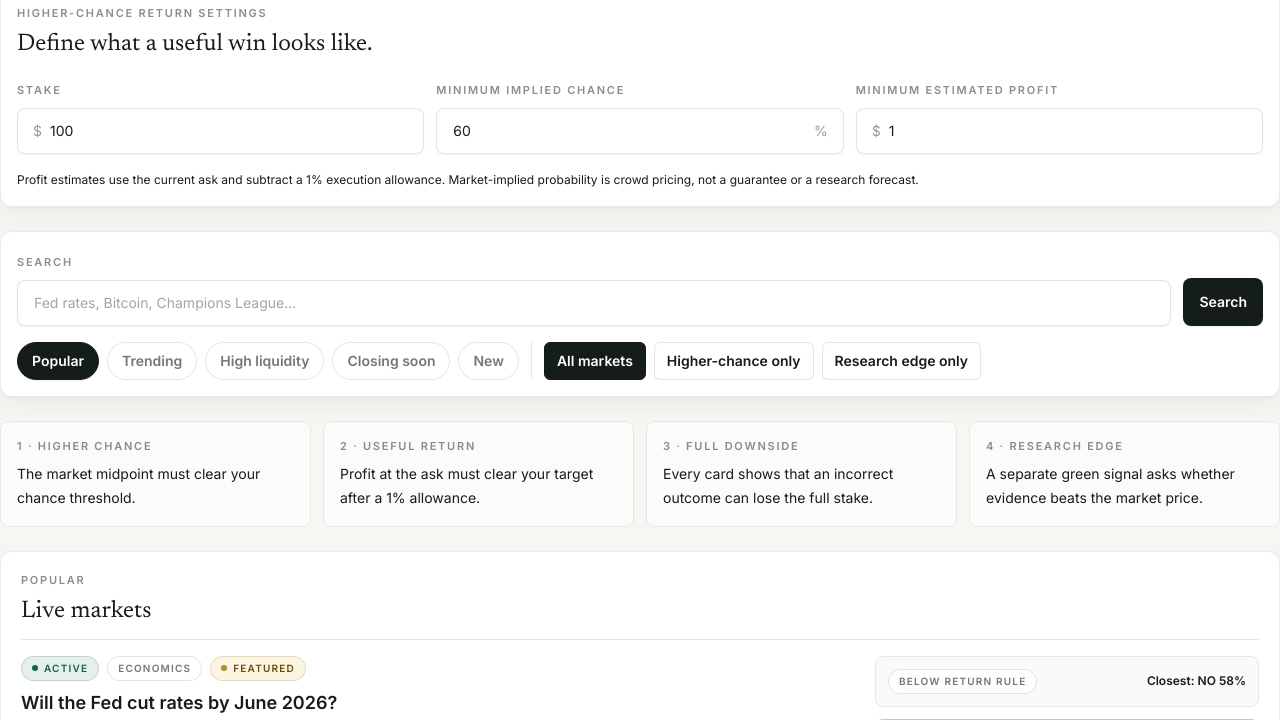
Test: MarketBrowserClient › highlights and filters favorable setups
(page scrolled)
Click the button "Research edge only". click: [901, 360]
box: [822,342,981,380]
(page scrolled)
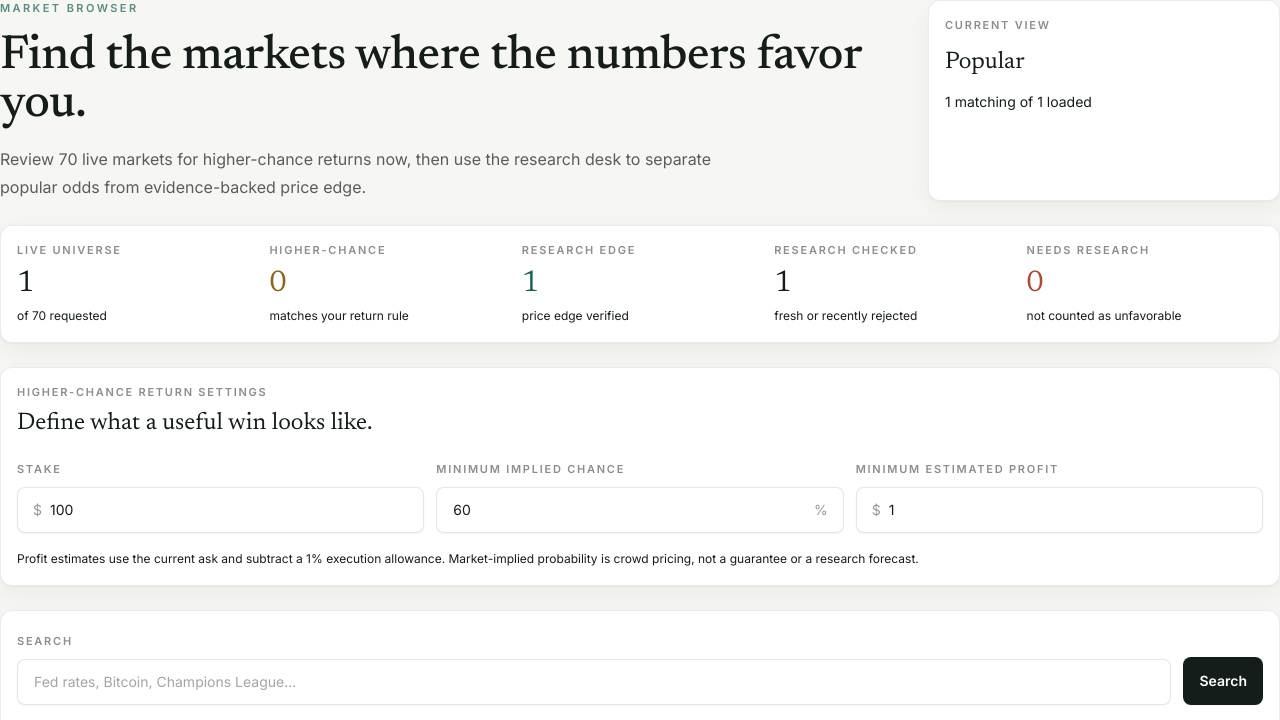
Result: the text "1 matching of 1 loaded" is shown at [945,92,1092,110]
